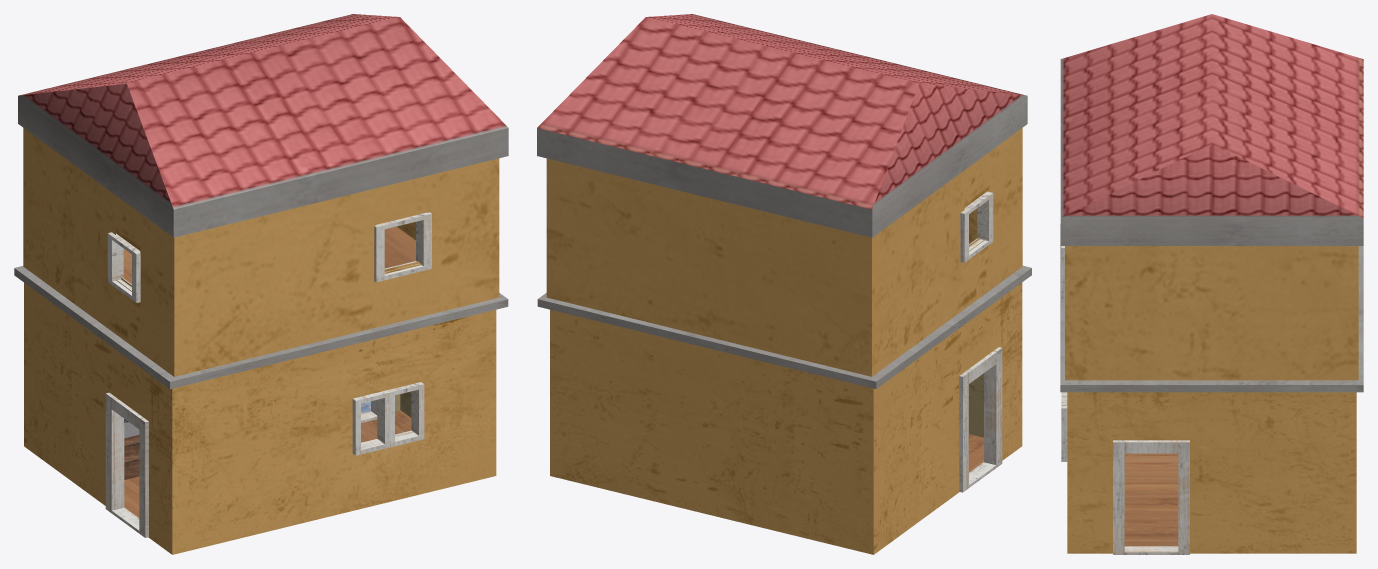
The model's file is second floor house.FBX.
The picture shows the model from 3 angles, left to right: view 1: azimuth 30°, elevation 25°; view 2: azimuth 150°, elevation 25°; view 3: azimuth 270°, elevation 25°; orthographic projection. The views are drawn at different scales.
Parts seen in each view (by area): view 1: Box001; view 2: Box001; view 3: Box001.
Part boxes in pixels (bbox=[...]): Box001: bbox=[14, 14, 508, 554]; Box001: bbox=[537, 14, 1031, 554]; Box001: bbox=[1060, 14, 1363, 554].
Size of the model in its own units: 589 by 680 by 469.
